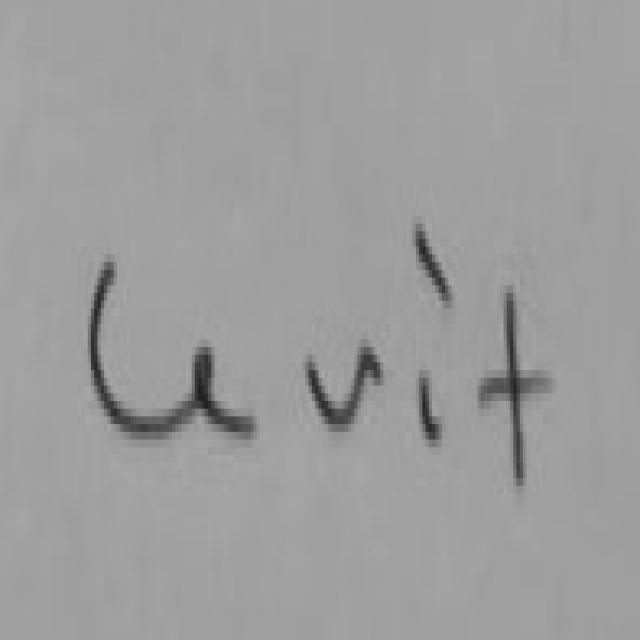C: (71, 224, 182, 472)
e: (188, 305, 268, 501)
i: (407, 216, 462, 464)
t: (476, 266, 552, 499)
v: (286, 303, 391, 483)
